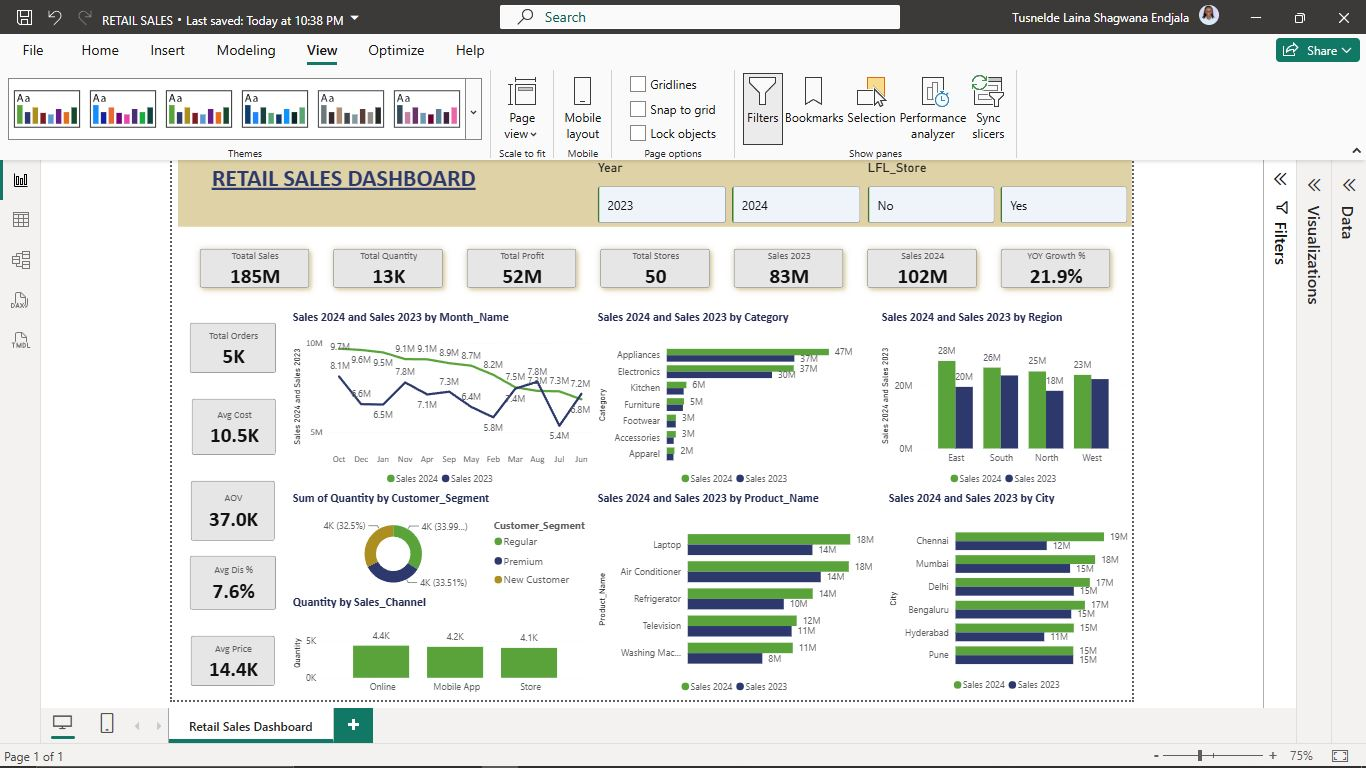

What the dashboard file says about the page in this screenshot:
{"tool":"powerbi","page":{"name":"Retail Sales Dashboard","canvas":[1280,720],"ordinal":0},"visuals":[{"type":"cardVisual","fields":{"Data":["Product_Master.Total Orders"]},"box":[6.7,200,149.3,101.3],"z":0},{"type":"cardVisual","fields":{"Data":["Product_Master.Toatal Sales","Product_Master.Total Quantity","Product_Master.Total Profit","Product_Master.Total Stores","Product_Master.Sales 2023","Product_Master.Sales 2024","Product_Master.YOY Growth %"]},"box":[8,89.3,1272,110.7],"z":1000},{"type":"lineChart","fields":{"Category":["Retail_Sales.Month_Name"],"Y":["Product_Master.Sales 2024","Product_Master.Sales 2023"]},"box":[156,200,406.7,242.7],"z":2000},{"type":"clusteredBarChart","fields":{"Category":["Retail_Sales.Category"],"Y":["Product_Master.Sales 2024","Product_Master.Sales 2023"]},"box":[562.7,200,378.7,242.7],"z":3000},{"type":"clusteredColumnChart","fields":{"Category":["Retail_Sales.Region"],"Y":["Product_Master.Sales 2024","Product_Master.Sales 2023"]},"box":[941.3,200,338.7,242.7],"z":4000},{"type":"clusteredBarChart","fields":{"Category":["Retail_Sales.City"],"Y":["Product_Master.Sales 2024","Product_Master.Sales 2023"]},"box":[951.1,441.8,328.9,276.6],"z":5000},{"type":"clusteredBarChart","fields":{"Category":["Product_Master.Product_Name"],"Y":["Product_Master.Sales 2024","Product_Master.Sales 2023"]},"box":[562.7,441.3,378.7,278.7],"z":6000},{"type":"donutChart","fields":{"Category":["Retail_Sales.Customer_Segment"],"Y":["Sum(Retail_Sales.Quantity)"]},"box":[155.5,441.8,406,137.6],"z":7000},{"type":"textbox","box":[8,0,554.7,89.3],"z":8000},{"type":"clusteredColumnChart","fields":{"Category":["Retail_Sales.Sales_Channel"],"Y":["Sum(Retail_Sales.Quantity)"]},"box":[155.5,579.4,406,140.4],"z":9000},{"type":"cardVisual","fields":{"Data":["Product_Master.Avg Cost"]},"box":[9.3,301.3,146.7,109.3],"z":10000},{"type":"cardVisual","fields":{"Data":["Product_Master.AOV"]},"box":[8,410.7,146.7,114.7],"z":11000},{"type":"cardVisual","fields":{"Data":["Product_Master.Avg Dis %"]},"box":[6.7,510.7,149.3,106.7],"z":12000},{"type":"cardVisual","fields":{"Data":["Product_Master.Avg Price"]},"box":[8,617.3,146.7,101.3],"z":13000},{"type":"advancedSlicerVisual","fields":{"Values":["Store_Master.LFL_Store"]},"box":[922.7,0,357.3,89.3],"z":14000},{"type":"advancedSlicerVisual","fields":{"Values":["Retail_Sales.Year"]},"box":[562.7,0,360,89.3],"z":15000}]}

Visuals, with their boxes on the page's 1280x720 design canvas (x1, y1, x2, y2). These are canvas units, not pixel positions in the 1366x768 screenshot, which may show the page scaled, cropped or inside an application window:
cardVisual - Product_Master.Total Orders: {"x1": 7, "y1": 200, "x2": 156, "y2": 301}
cardVisual - Product_Master.Toatal Sales x Product_Master.Total Quantity: {"x1": 8, "y1": 89, "x2": 1280, "y2": 200}
lineChart - Retail_Sales.Month_Name x Product_Master.Sales 2024: {"x1": 156, "y1": 200, "x2": 563, "y2": 443}
clusteredBarChart - Retail_Sales.Category x Product_Master.Sales 2024: {"x1": 563, "y1": 200, "x2": 941, "y2": 443}
clusteredColumnChart - Retail_Sales.Region x Product_Master.Sales 2024: {"x1": 941, "y1": 200, "x2": 1280, "y2": 443}
clusteredBarChart - Retail_Sales.City x Product_Master.Sales 2024: {"x1": 951, "y1": 442, "x2": 1280, "y2": 718}
clusteredBarChart - Product_Master.Product_Name x Product_Master.Sales 2024: {"x1": 563, "y1": 441, "x2": 941, "y2": 720}
donutChart - Retail_Sales.Customer_Segment x Sum(Retail_Sales.Quantity): {"x1": 156, "y1": 442, "x2": 562, "y2": 579}
textbox: {"x1": 8, "y1": 0, "x2": 563, "y2": 89}
clusteredColumnChart - Retail_Sales.Sales_Channel x Sum(Retail_Sales.Quantity): {"x1": 156, "y1": 579, "x2": 562, "y2": 720}
cardVisual - Product_Master.Avg Cost: {"x1": 9, "y1": 301, "x2": 156, "y2": 411}
cardVisual - Product_Master.AOV: {"x1": 8, "y1": 411, "x2": 155, "y2": 525}
cardVisual - Product_Master.Avg Dis %: {"x1": 7, "y1": 511, "x2": 156, "y2": 617}
cardVisual - Product_Master.Avg Price: {"x1": 8, "y1": 617, "x2": 155, "y2": 719}
advancedSlicerVisual - Store_Master.LFL_Store: {"x1": 923, "y1": 0, "x2": 1280, "y2": 89}
advancedSlicerVisual - Retail_Sales.Year: {"x1": 563, "y1": 0, "x2": 923, "y2": 89}
